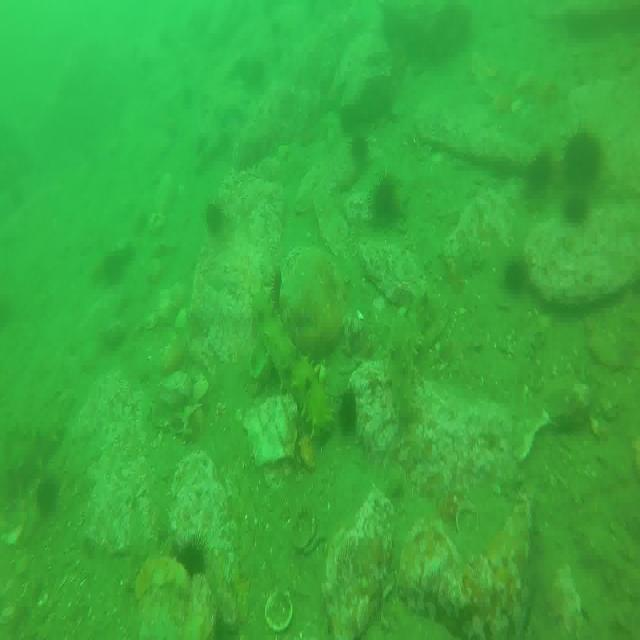echinus: (563, 132, 604, 194), (172, 536, 210, 591), (34, 474, 62, 523), (375, 176, 402, 221), (527, 150, 556, 190), (336, 388, 358, 440), (504, 257, 529, 297), (563, 189, 589, 227), (207, 199, 229, 234), (349, 136, 368, 168)
holothurian: (251, 286, 330, 435), (384, 315, 420, 424)
scallop: (247, 393, 301, 464), (264, 590, 295, 634)
